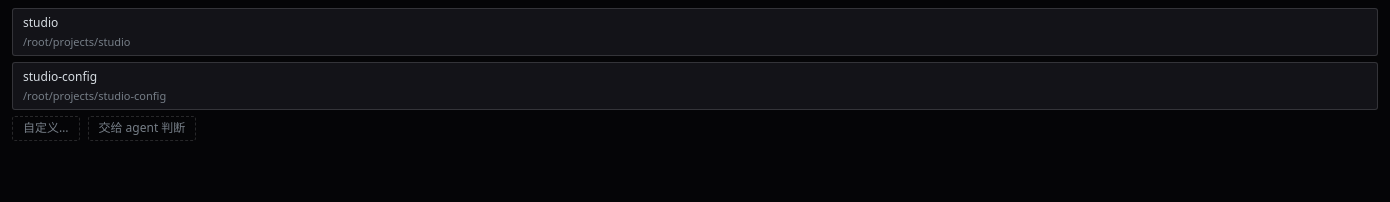
NeedInputOptions — 固定动作 › 自定义输入为空时回复按钮禁用
Click the button "自定义…": (46, 129) [12,116,80,141]
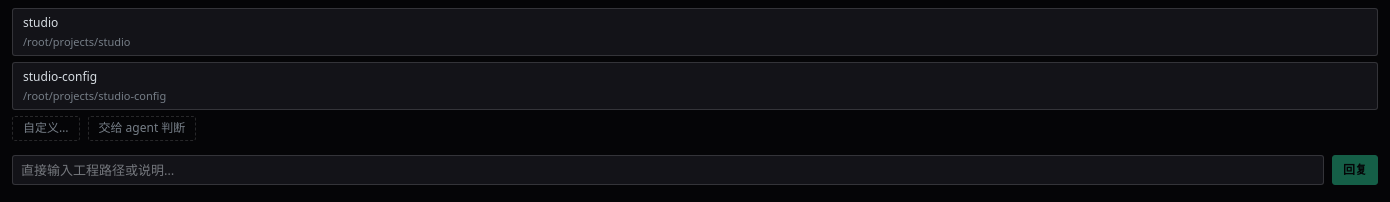
Expected: the button "回复" is disabled, [1332,155,1378,185]
